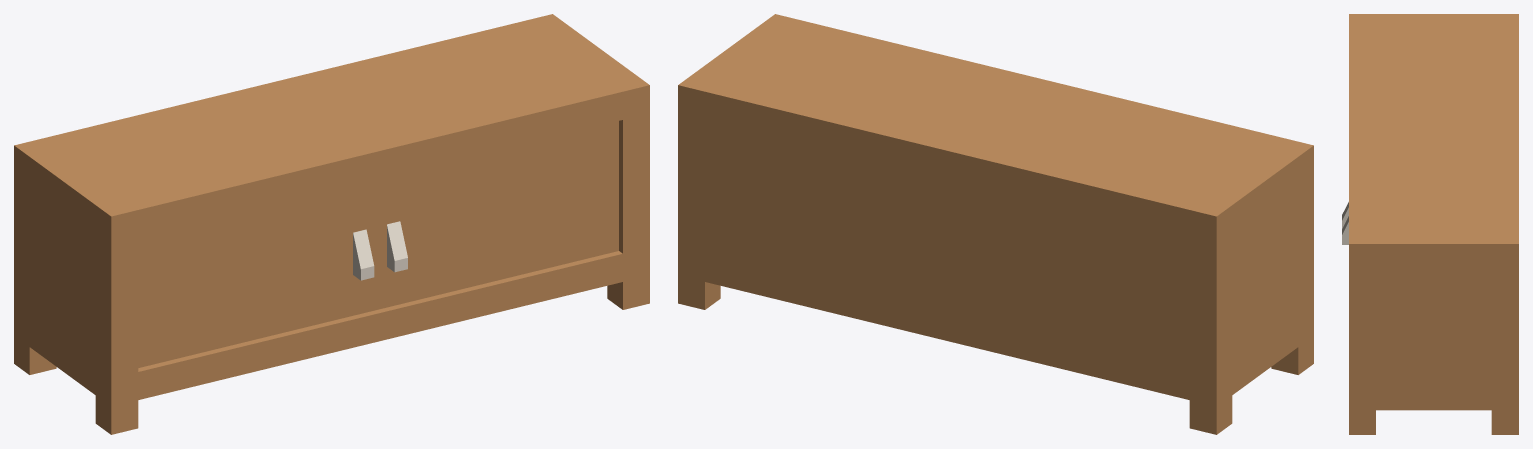
The model's file is kitCabinetTelevisionDoors.glb.
3 renders of one model, left to right at view 1: azimuth 30°, elevation 25°; view 2: azimuth 150°, elevation 25°; view 3: azimuth 270°, elevation 25°, orthographic. The views are drawn at different scales.
Visible parts, largest first — view 1: kitCabinetTelevisionDoors_wood, kitCabinetTelevisionDoors_metal; view 2: kitCabinetTelevisionDoors_wood; view 3: kitCabinetTelevisionDoors_wood, kitCabinetTelevisionDoors_metal.
Boxes of the visible parts, box(x1,y1,x2,y2) form: kitCabinetTelevisionDoors_wood: box(14, 14, 649, 434); kitCabinetTelevisionDoors_metal: box(353, 221, 407, 280); kitCabinetTelevisionDoors_wood: box(678, 14, 1313, 434); kitCabinetTelevisionDoors_wood: box(1349, 14, 1518, 434); kitCabinetTelevisionDoors_metal: box(1342, 202, 1348, 244).
Size of the model in its own units: 1.6 by 0.62 by 0.52.
